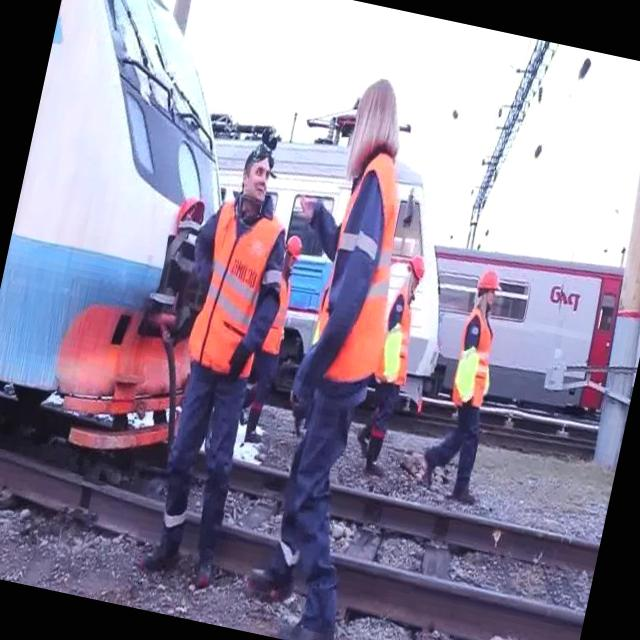vest: (310, 148, 420, 385), (184, 193, 288, 384), (447, 308, 502, 414), (372, 286, 426, 389), (262, 269, 297, 357), (448, 343, 485, 408), (376, 322, 409, 388)
